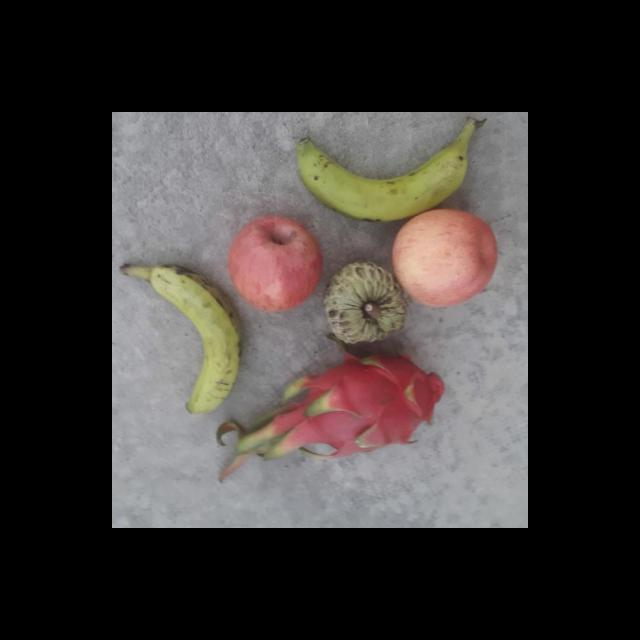Sakya fruit: (328, 261, 410, 349)
apple: (393, 211, 501, 309), (230, 216, 326, 315)
banana: (114, 265, 244, 419), (287, 120, 471, 226)
pitaya: (292, 350, 448, 460)
